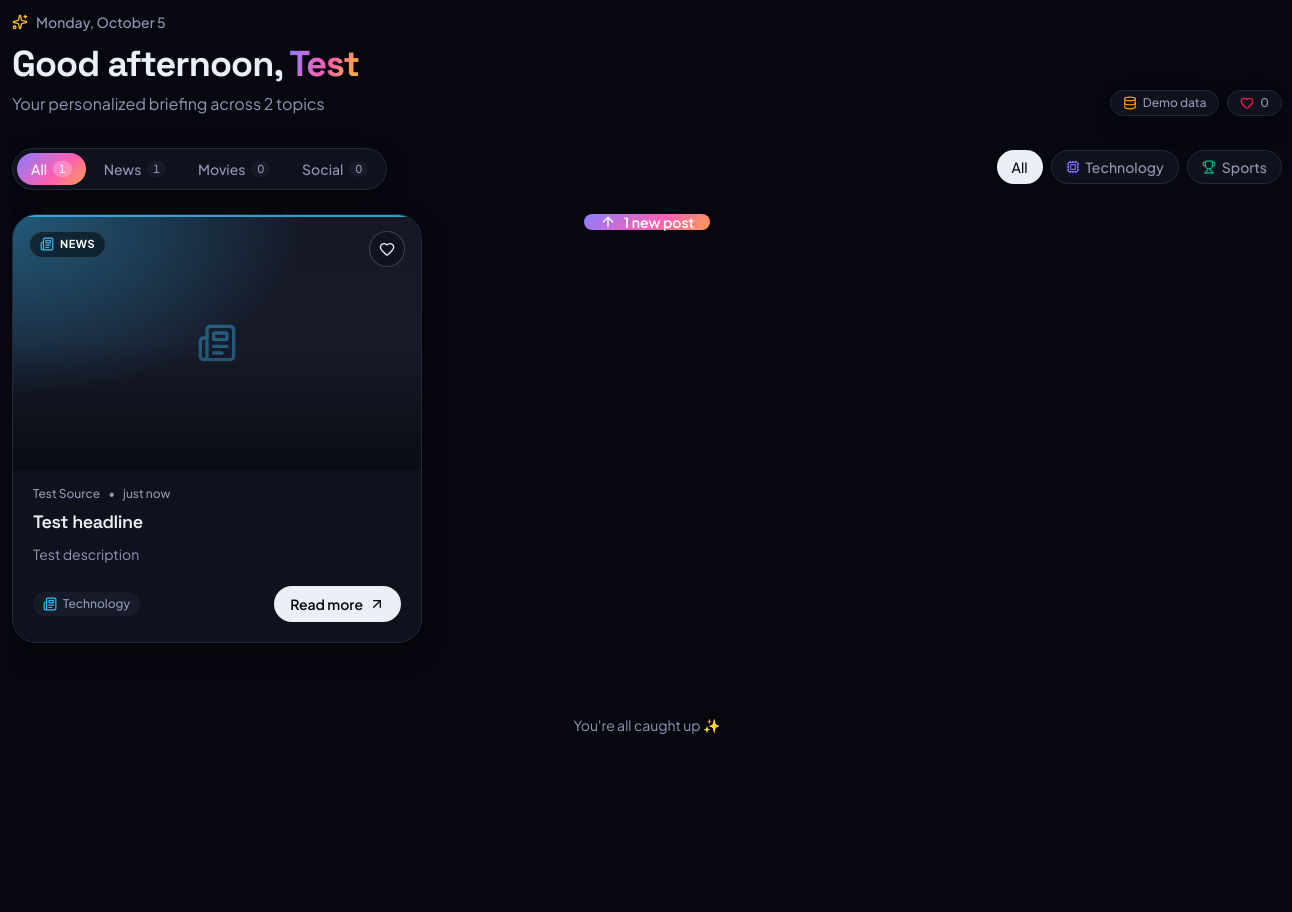
Test case: FeedView (integration) › surfaces real-time posts behind a 'new posts' pill
The image size is (1292, 912).
Click the button with test id "new-posts". click: click(647, 222)
box: [584,214,710,230]
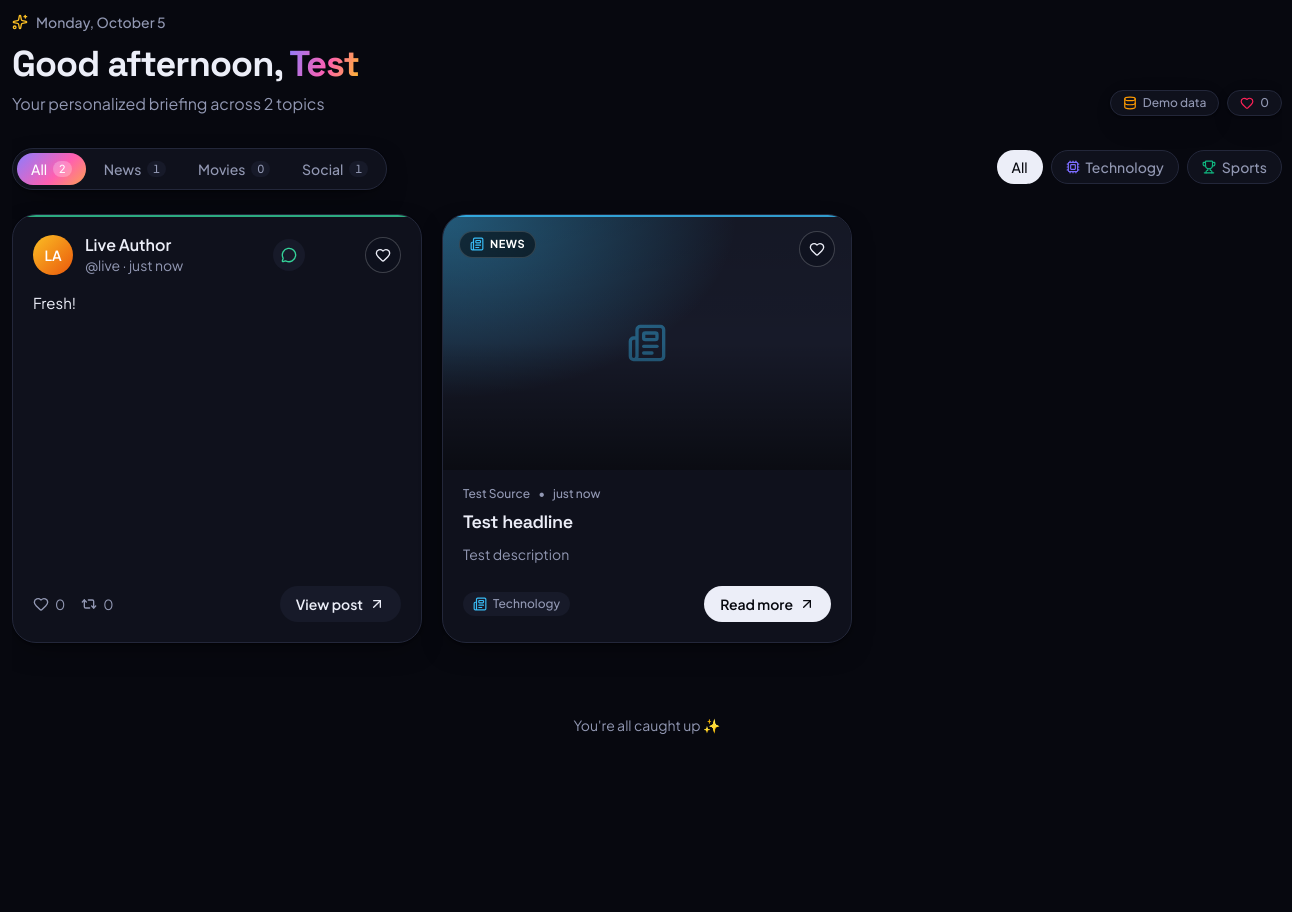
Expected: the text "Fresh!" is shown, [33,293,76,312]
